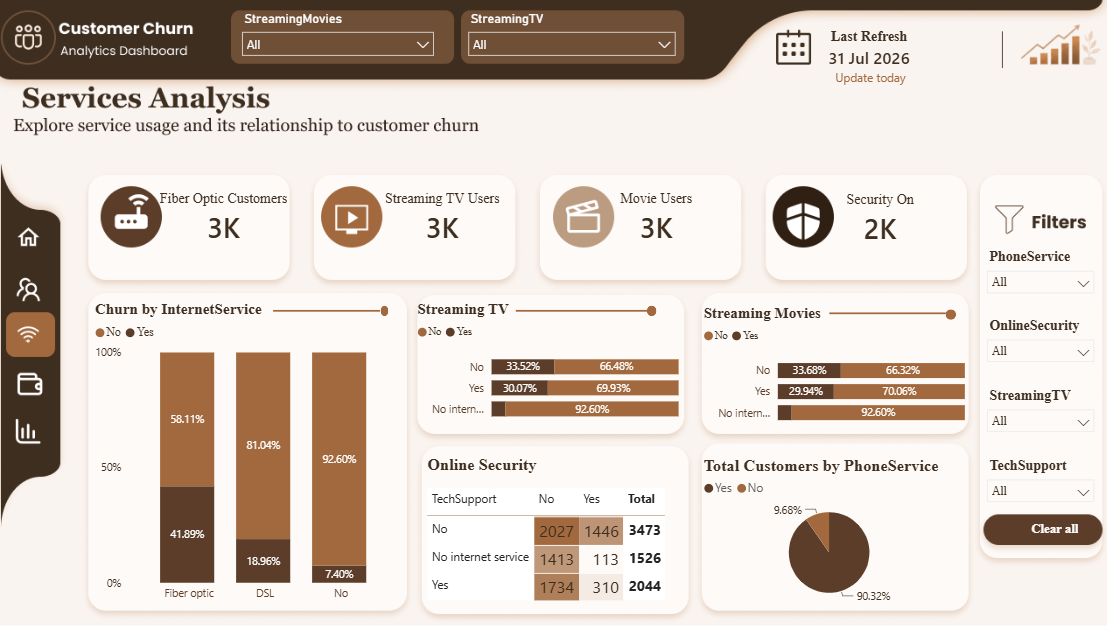

The dashboard page shown, as its layout file describes it:
{"tool":"powerbi","page":{"name":"Page 3","canvas":[1280,720],"ordinal":2},"visuals":[{"type":"cardVisual","fields":{"Data":["dax.Fiber Optic Customers"]},"box":[160.1,191.9,207.8,119.7],"z":0},{"type":"shape","box":[320,340,122.8,35],"z":0,"group":"g3"},{"type":"shape","box":[596.7,340,150.7,35],"z":0,"group":"g1"},{"type":"shape","box":[955,343.3,133.3,35],"z":0,"group":"g2"},{"type":"cardVisual","fields":{"Data":["dax.Streaming TV Users"]},"box":[409.7,191.9,207.8,119.7],"z":1000},{"type":"shape","box":[442.5,351.7,9.1,12.3],"z":1000,"group":"g3"},{"type":"shape","box":[747.1,351.7,11.2,12.3],"z":1000,"group":"g1"},{"type":"shape","box":[1087.7,355.5,12.1,12.1],"z":1000,"group":"g2"},{"type":"cardVisual","fields":{"Data":["dax.Streaming Movies Users"]},"box":[640.6,191.9,236.6,119.7],"z":2000},{"type":"cardVisual","fields":{"Data":["dax.Online Security Users"]},"box":[903.2,193.3,222.2,119.7],"z":3000},{"type":"hundredPercentStackedColumnChart","title":"Churn by InternetService","fields":{"Category":["DimService.InternetService"],"Series":["fact customer.Churn"],"Y":["dax.Total Customers"]},"box":[111.1,346.3,359.2,347.7],"z":4000},{"type":"hundredPercentStackedBarChart","title":"Streaming TV","fields":{"Category":["DimService.StreamingTV"],"Series":["fact customer.Churn"],"Y":["dax.Total Customers"]},"box":[480.4,346.3,308.8,142.8],"z":5000},{"type":"cardVisual","fields":{"Data":["dax.Last Refresh"]},"box":[923.4,20.2,157.3,77.9],"z":6000},{"type":"textbox","box":[945,76.5,114,43.3],"z":7000},{"type":"slicer","fields":{"Values":["DimService.StreamingMovies"]},"box":[274.1,10.1,239.5,66.4],"z":8000},{"type":"slicer","fields":{"Values":["DimService.StreamingTV"]},"box":[532.4,10.1,256.8,66.4],"z":9000},{"type":"slicer","fields":{"Values":["DimService.PhoneService"]},"box":[1125.4,281.3,142.8,79.4],"z":10000},{"type":"slicer","fields":{"Values":["DimService.OnlineSecurity"]},"box":[1125.4,360.7,142.8,79.4],"z":11000},{"type":"slicer","fields":{"Values":["DimService.StreamingTV"]},"box":[1125.4,440,142.8,79.4],"z":12000},{"type":"slicer","fields":{"Values":["DimService.TechSupport"]},"box":[1125.4,519.4,142.8,79.4],"z":13000},{"type":"actionButton","box":[13,251,59.2,52],"z":14000},{"type":"actionButton","box":[13,308.8,59.2,52],"z":15000},{"type":"actionButton","box":[13,362.1,59.2,52],"z":16000},{"type":"actionButton","box":[13,414.1,59.2,52],"z":17000},{"type":"actionButton","box":[13,467.5,59.2,52],"z":18000},{"type":"actionButton","box":[1158.5,585.8,109.6,41.8],"z":19000},{"type":"pivotTable","title":"Online Security","fields":{"Columns":["fact customer.Churn"],"Rows":["DimService.TechSupport"],"Values":["dax.Total Customers"]},"box":[491.7,523.3,298.3,196.7],"z":20000},{"type":"pieChart","fields":{"Category":["DimService.PhoneService"],"Y":["dax.Total Customers"]},"box":[806.5,523.7,297.2,170.2],"z":21000},{"type":"hundredPercentStackedBarChart","title":"Streaming Movies","fields":{"Category":["DimService.StreamingMovies"],"Series":["fact customer.Churn"],"Y":["dax.Total Customers"]},"box":[806.5,350.6,308.8,142.8],"z":22000},{"type":"group","id":"g1","title":"Group 1","box":[596.7,340,161.7,35],"z":23000},{"type":"group","id":"g2","title":"Group 1","box":[955,343.3,145,35],"z":24000},{"type":"group","id":"g3","title":"Group 1","box":[320,340,131.7,35],"z":25000}]}

Visuals, with their boxes in screenshot pixels (x1, y1, x2, y2), scaled from the page's 1280x720 canvas onto the 1107x628 screenshot:
cardVisual - dax.Fiber Optic Customers: (x1=138, y1=167, x2=318, y2=272)
shape: (x1=277, y1=297, x2=383, y2=327)
shape: (x1=516, y1=297, x2=646, y2=327)
shape: (x1=826, y1=299, x2=941, y2=330)
cardVisual - dax.Streaming TV Users: (x1=354, y1=167, x2=534, y2=272)
shape: (x1=383, y1=307, x2=391, y2=317)
shape: (x1=646, y1=307, x2=656, y2=317)
shape: (x1=941, y1=310, x2=951, y2=321)
cardVisual - dax.Streaming Movies Users: (x1=554, y1=167, x2=759, y2=272)
cardVisual - dax.Online Security Users: (x1=781, y1=169, x2=973, y2=273)
"Churn by InternetService" hundredPercentStackedColumnChart: (x1=96, y1=302, x2=407, y2=605)
"Streaming TV" hundredPercentStackedBarChart: (x1=415, y1=302, x2=683, y2=427)
cardVisual - dax.Last Refresh: (x1=799, y1=18, x2=935, y2=86)
textbox: (x1=817, y1=67, x2=916, y2=104)
slicer - DimService.StreamingMovies: (x1=237, y1=9, x2=444, y2=67)
slicer - DimService.StreamingTV: (x1=460, y1=9, x2=683, y2=67)
slicer - DimService.PhoneService: (x1=973, y1=245, x2=1097, y2=315)
slicer - DimService.OnlineSecurity: (x1=973, y1=315, x2=1097, y2=384)
slicer - DimService.StreamingTV: (x1=973, y1=384, x2=1097, y2=453)
slicer - DimService.TechSupport: (x1=973, y1=453, x2=1097, y2=522)
actionButton: (x1=11, y1=219, x2=62, y2=264)
actionButton: (x1=11, y1=269, x2=62, y2=315)
actionButton: (x1=11, y1=316, x2=62, y2=361)
actionButton: (x1=11, y1=361, x2=62, y2=407)
actionButton: (x1=11, y1=408, x2=62, y2=453)
actionButton: (x1=1002, y1=511, x2=1097, y2=547)
"Online Security" pivotTable: (x1=425, y1=456, x2=683, y2=627)
pieChart - DimService.PhoneService x dax.Total Customers: (x1=697, y1=457, x2=955, y2=605)
"Streaming Movies" hundredPercentStackedBarChart: (x1=697, y1=306, x2=965, y2=430)
"Group 1" group: (x1=516, y1=297, x2=656, y2=327)
"Group 1" group: (x1=826, y1=299, x2=951, y2=330)
"Group 1" group: (x1=277, y1=297, x2=391, y2=327)
